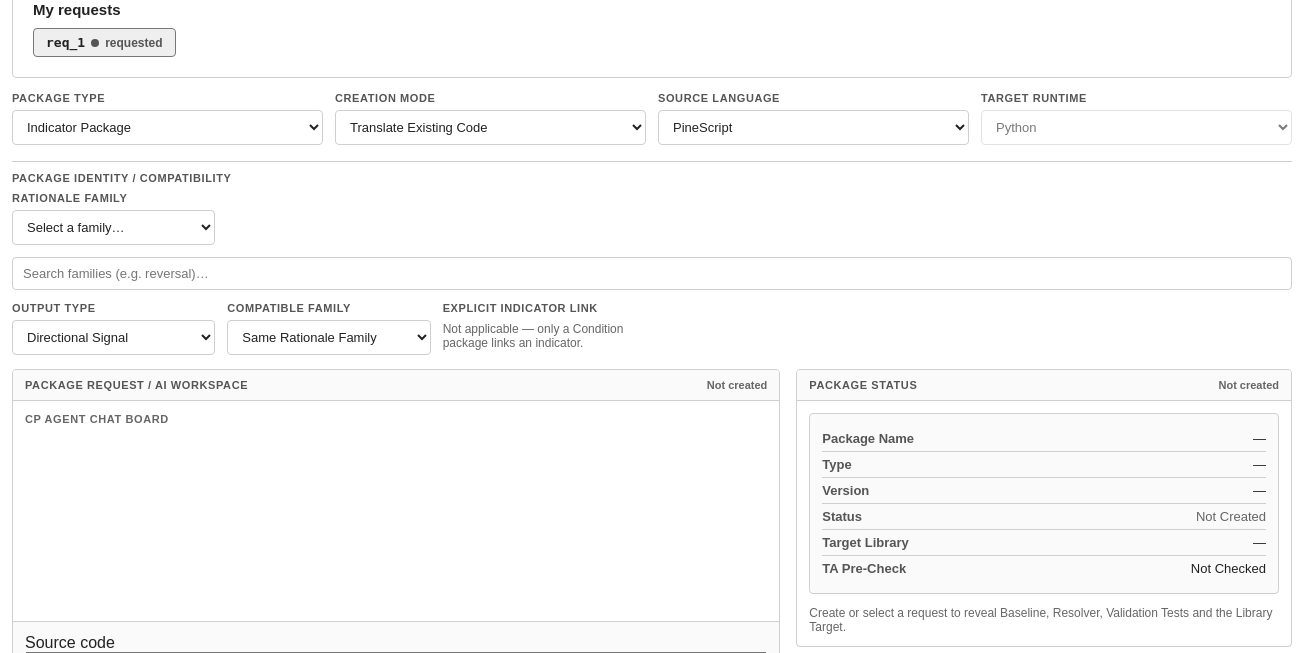
Test: Create Package page › admits the baseline parse as a durable job and shows no verdict yet
Check: the text "req_1" is shown, box [46,35,85,50]
Click the button "req_1 requested": (104, 42) [33,28,176,57]
(page scrolled)
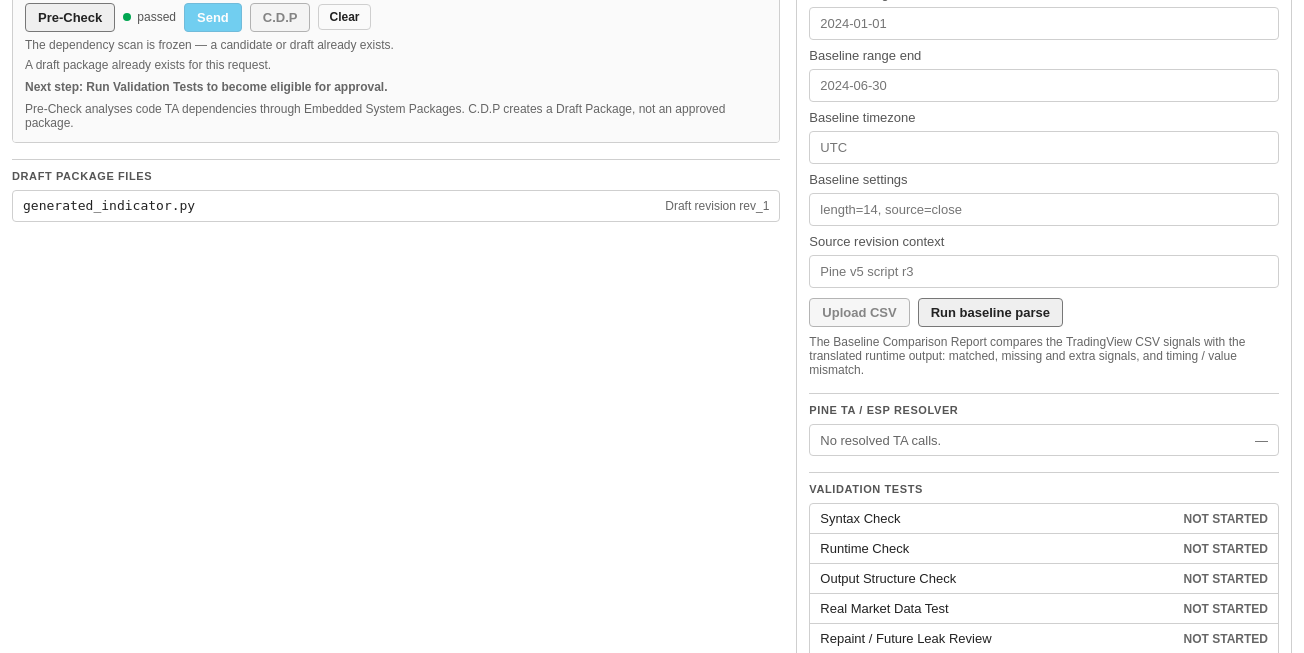
Check: the button "Run baseline parse" is enabled
Click the button "Run baseline parse": (990, 312) [918,298,1063,327]
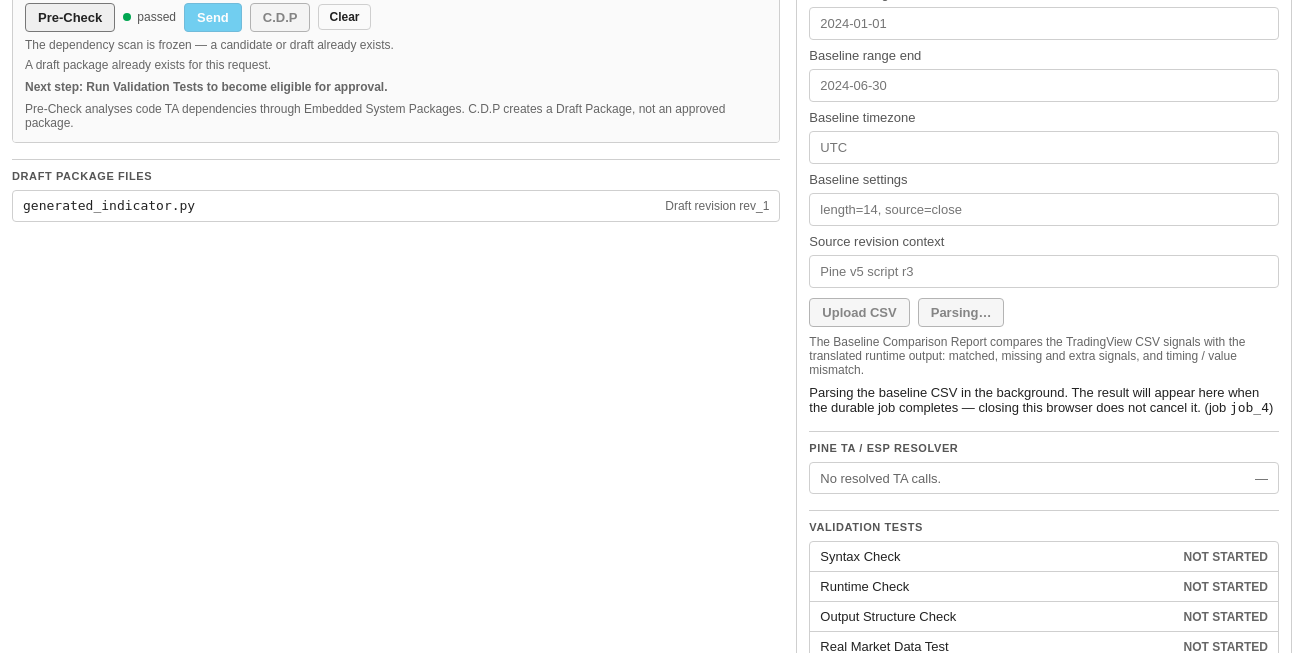
Check: the text "Parsing the baseline CSV in the background" is shown, box [809,385,1259,415]
Check: the text "job_4" is shown, box [1230,400,1269,415]
